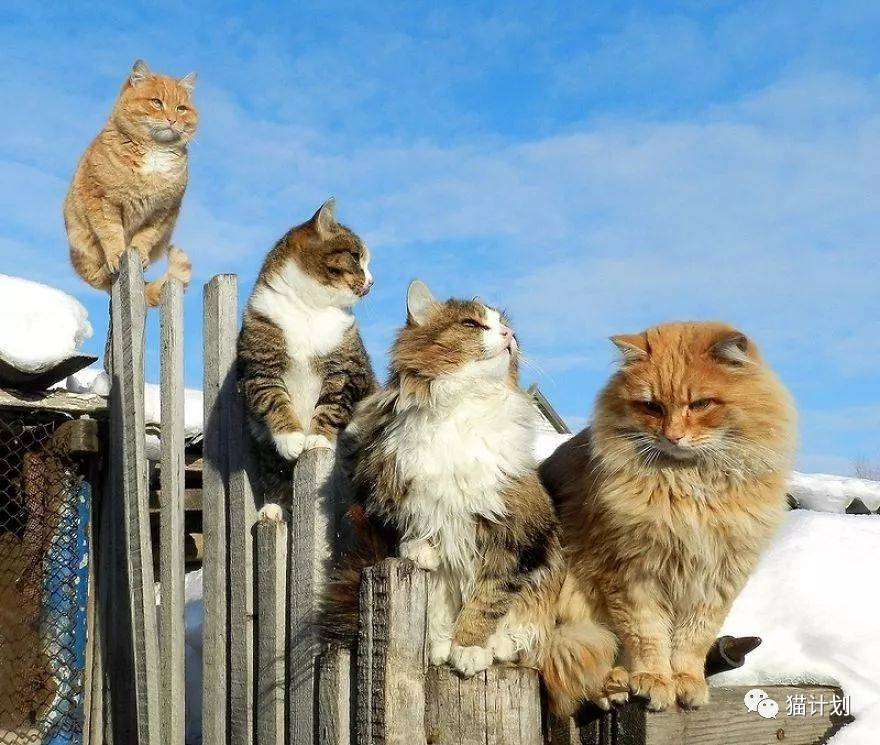cat: (535, 315, 802, 715), (361, 279, 564, 672), (235, 194, 381, 524), (62, 59, 199, 308)
